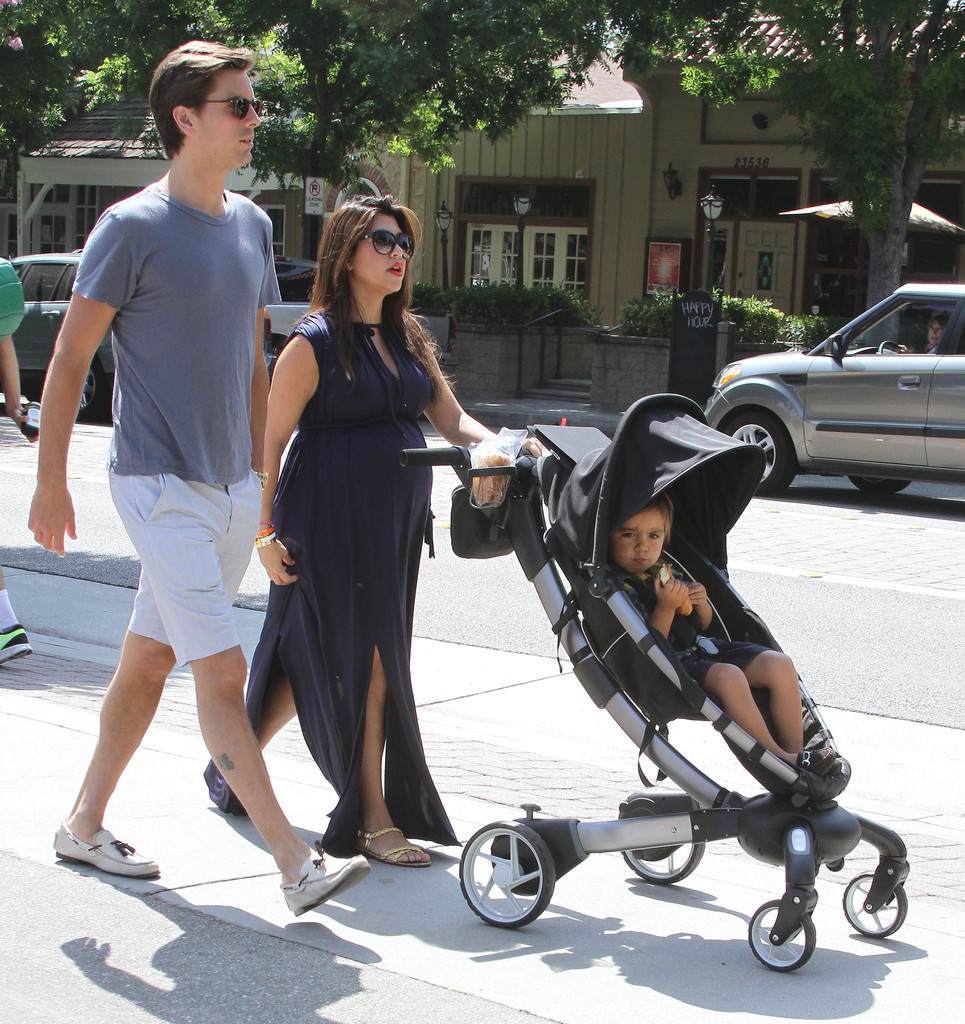Person: (31, 39, 286, 900), (268, 193, 474, 866), (617, 500, 826, 755)
